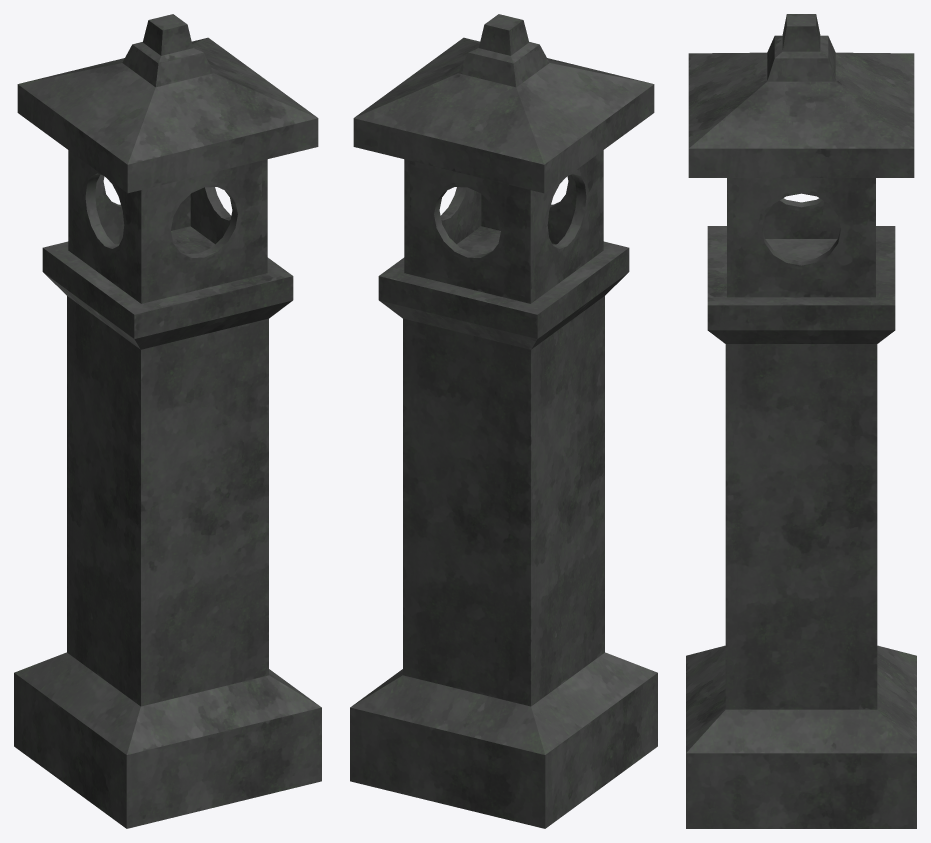
The model's file is Stone Lantern 2.fbx.
3 renders of one model, left to right at view 1: azimuth 30°, elevation 25°; view 2: azimuth 150°, elevation 25°; view 3: azimuth 270°, elevation 25°, orthographic. The views are drawn at different scales.
Parts seen in each view (by area): view 1: Stone Lantern - Unwrapped; view 2: Stone Lantern - Unwrapped; view 3: Stone Lantern - Unwrapped.
Part boxes in pixels (left/top/right/bottom): Stone Lantern - Unwrapped: left=14, top=14, right=321, bottom=828; Stone Lantern - Unwrapped: left=350, top=14, right=657, bottom=828; Stone Lantern - Unwrapped: left=686, top=14, right=916, bottom=828.
Bounding box in the file's own units: 60.86 × 221 × 60.86.
1 material, 1 textured.
